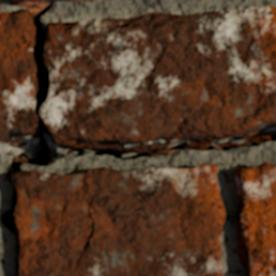brick: (13, 164, 224, 275), (236, 163, 275, 275), (13, 0, 49, 5), (69, 0, 103, 1)
broken_brick: (40, 5, 275, 144), (0, 8, 36, 143)
crack: (0, 0, 275, 275)
